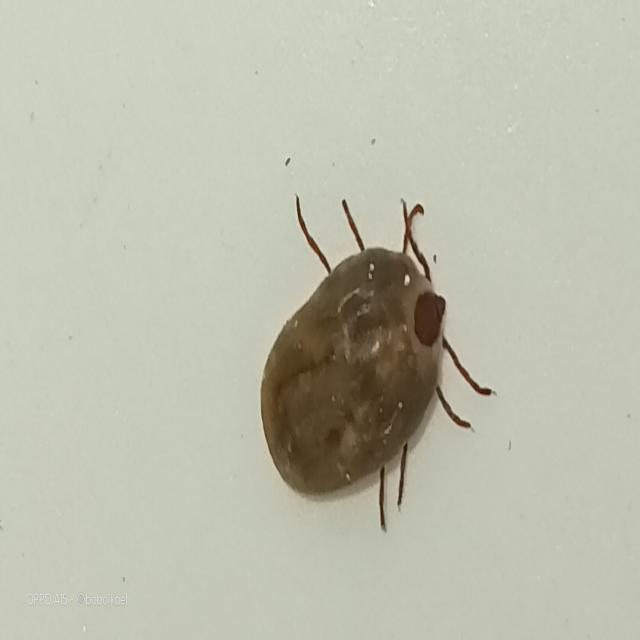Rhipicephalus Sanguineus-F-Fed: (259, 194, 493, 534)
